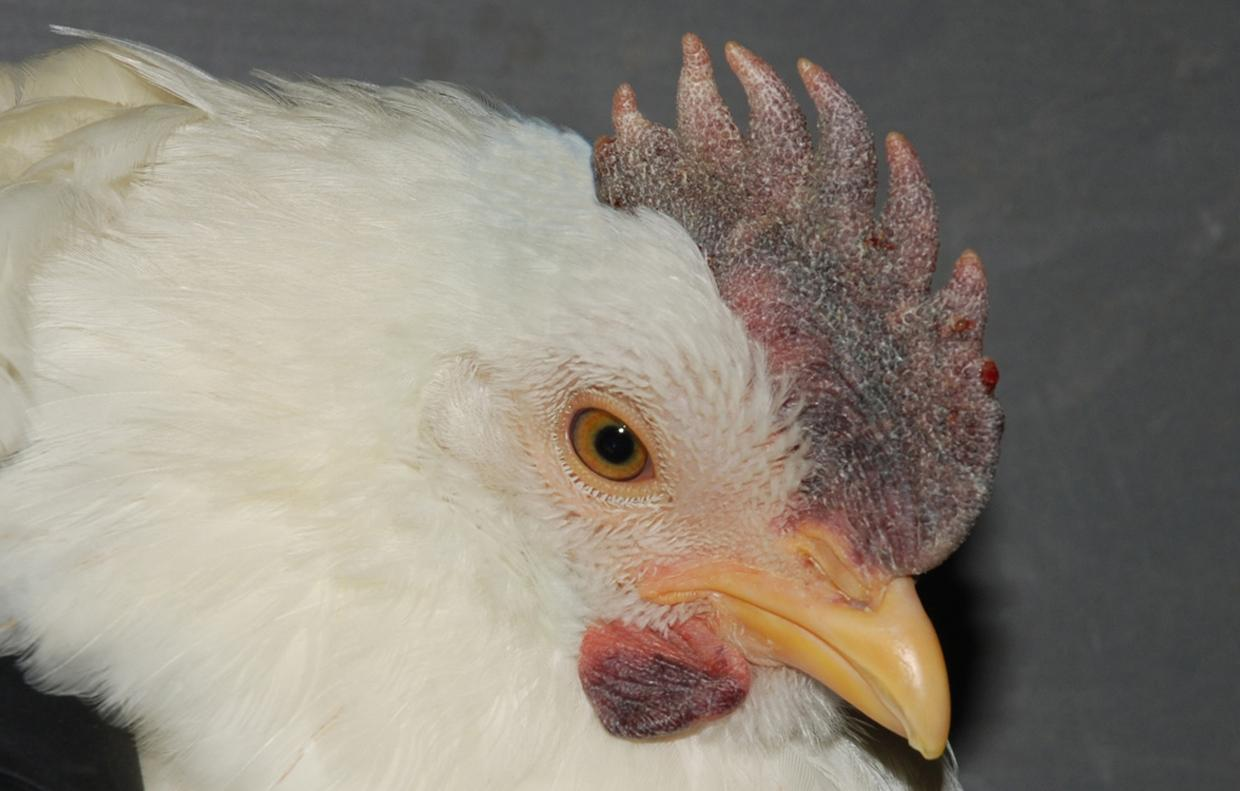AbNormal: (597, 25, 998, 558)
